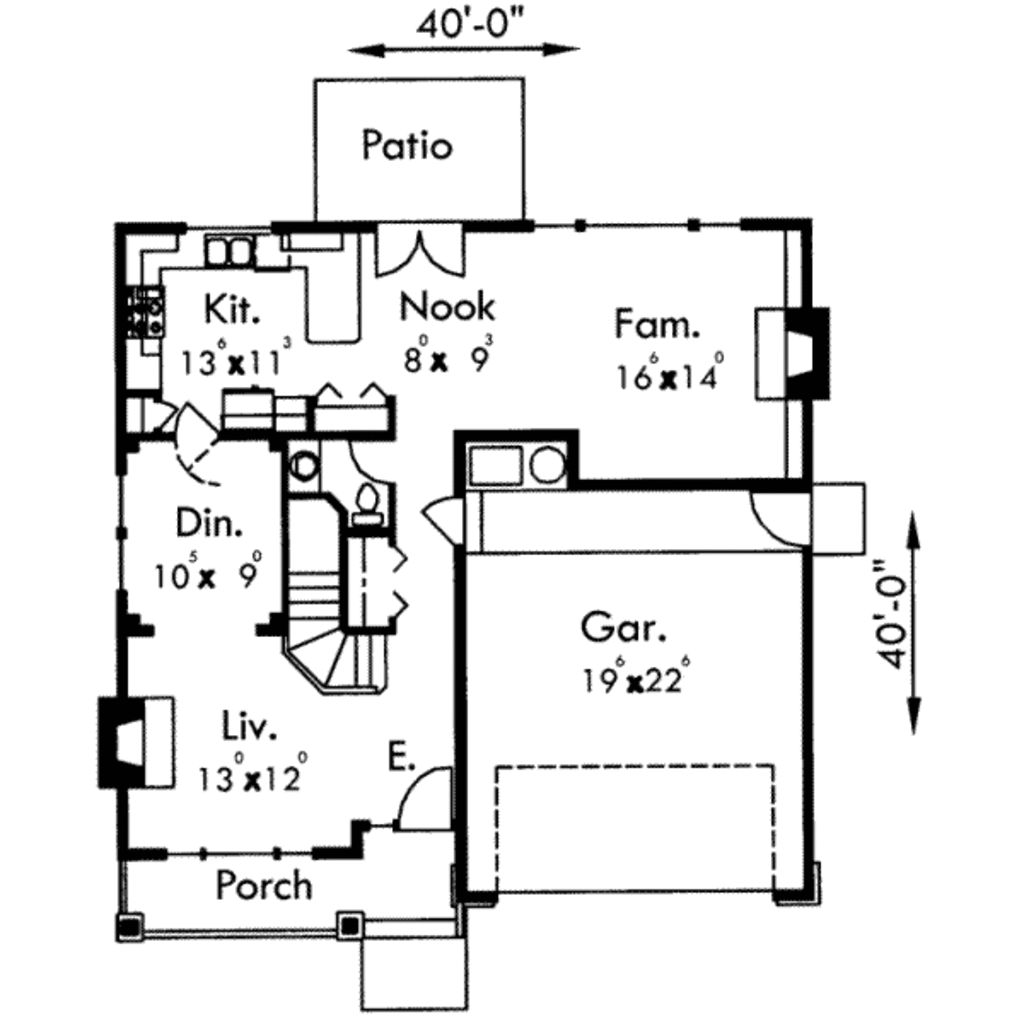door: (359, 214, 478, 284), (743, 484, 832, 551), (391, 752, 457, 830), (168, 403, 225, 478), (413, 492, 459, 551), (156, 398, 178, 435)
large_sink: (354, 481, 387, 525)
small_sink: (286, 436, 311, 498)
stairs: (265, 524, 394, 708)
twin_sink: (191, 214, 273, 279)
window: (524, 212, 738, 241), (111, 470, 129, 584)
